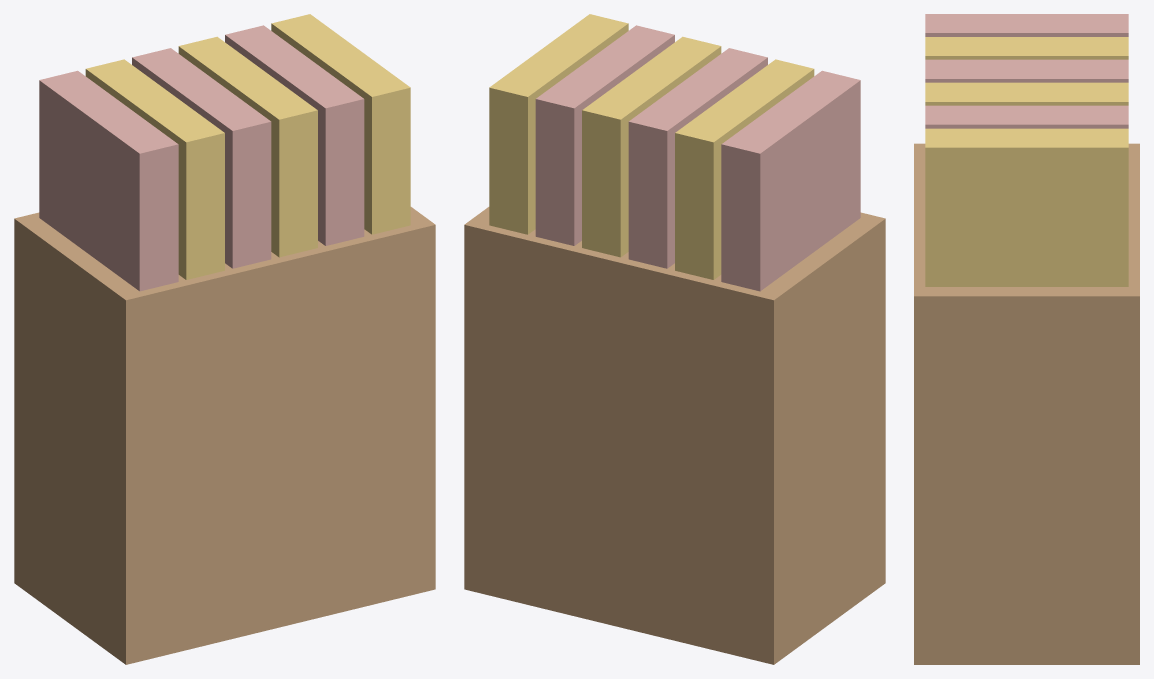
The model's file is books.glb.
3 renders of one model, left to right at view 1: azimuth 30°, elevation 25°; view 2: azimuth 150°, elevation 25°; view 3: azimuth 270°, elevation 25°, orthographic.
Visible parts, largest first — view 1: book trolley, colourful book.001, colourful book.002; view 2: book trolley, colourful book.001, colourful book.002; view 3: book trolley, colourful book.002, colourful book.001.
Boxes of the visible parts, left/top/right/bottom form: book trolley: left=14, top=207, right=435, bottom=664; colourful book.001: left=39, top=25, right=364, bottom=291; colourful book.002: left=85, top=14, right=410, bottom=279; book trolley: left=464, top=207, right=885, bottom=664; colourful book.001: left=535, top=25, right=860, bottom=291; colourful book.002: left=489, top=14, right=814, bottom=279; book trolley: left=914, top=143, right=1139, bottom=664; colourful book.002: left=925, top=37, right=1128, bottom=286; colourful book.001: left=925, top=14, right=1128, bottom=128.
Bounding box in the file's own units: 0.8 × 1.24 × 0.5.
